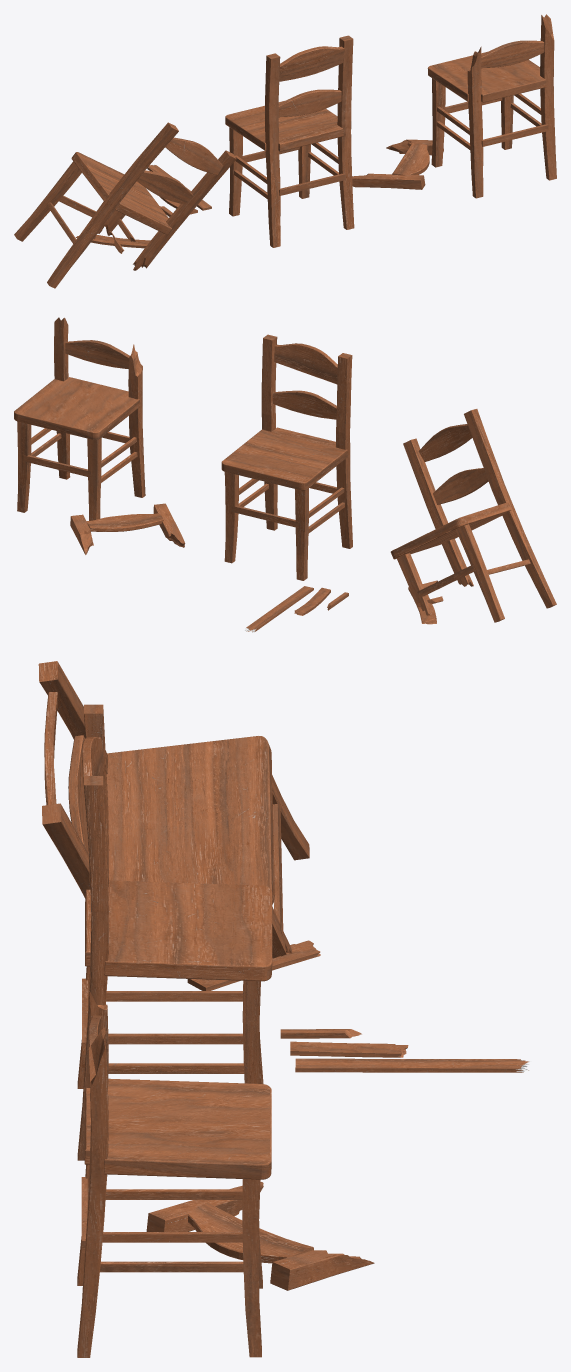
The model's file is kirikSandalyeler.fbx.
3 renders of one model, top to bottom at view 1: azimuth 30°, elevation 25°; view 2: azimuth 150°, elevation 25°; view 3: azimuth 270°, elevation 25°, orthographic. The views are drawn at different scales.
Visible parts, largest first — view 1: chair2, chair1, chair3, kirik1, kirik5, kirik6; view 2: chair2, chair1, chair3, kirik1, kirik5, kirik2, kirik3; view 3: chair1, chair3, chair2, kirik1, kirik2, kirik5, kirik3, kirik6.
Part boxes in pixels (x1,y1,x2,y2): chair2: (225, 35, 354, 247); chair1: (427, 14, 556, 198); chair3: (14, 122, 222, 288); kirik1: (352, 139, 443, 189); kirik5: (133, 150, 236, 270); kirik6: (76, 235, 150, 248); chair2: (221, 334, 352, 580); chair1: (14, 317, 145, 520); chair3: (390, 409, 556, 622); kirik1: (70, 503, 185, 554); kirik5: (403, 438, 473, 586); kirik2: (245, 586, 313, 632); kirik3: (294, 587, 330, 615); chair1: (77, 991, 271, 1357); chair3: (38, 661, 309, 958); chair2: (77, 704, 272, 1160); kirik1: (146, 1181, 374, 1290); kirik2: (295, 1058, 531, 1072); kirik5: (42, 803, 90, 898); kirik3: (290, 1041, 408, 1057); kirik6: (187, 940, 320, 990).
Bounding box in the file's own units: 933 × 339 × 402.
